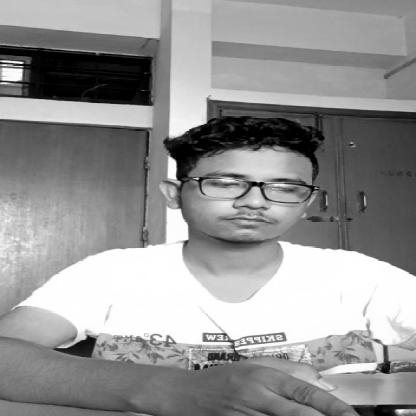Normal: (163, 118, 317, 241)
